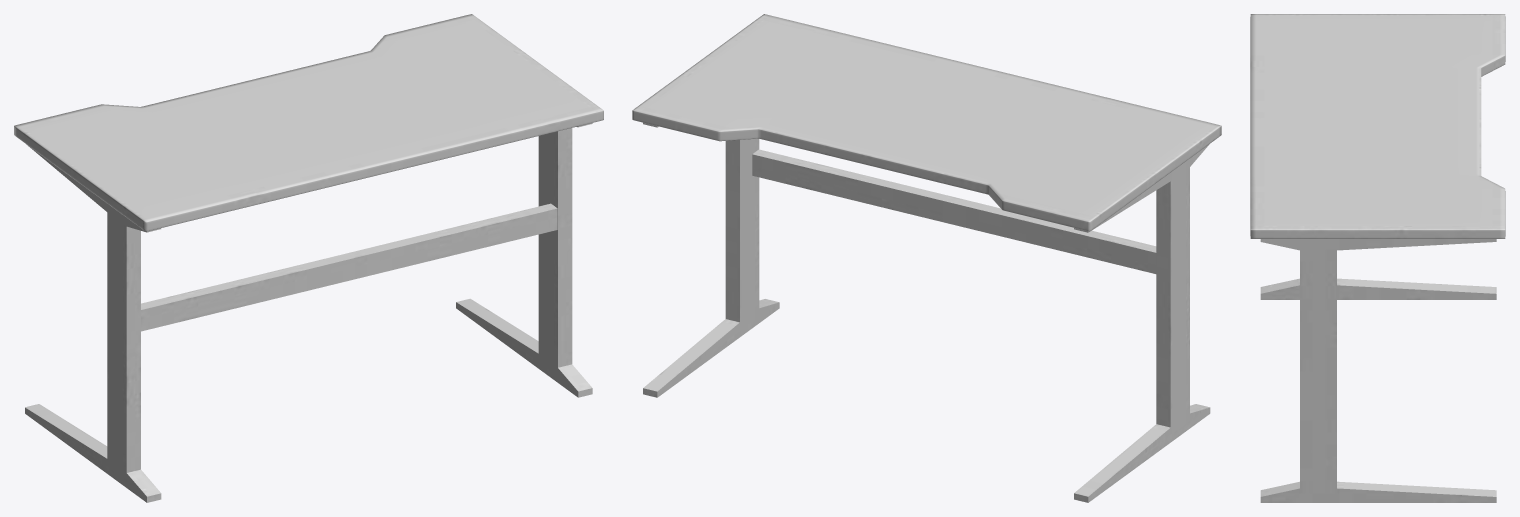
The model's file is Table44.glb.
3 renders of one model, left to right at view 1: azimuth 30°, elevation 25°; view 2: azimuth 150°, elevation 25°; view 3: azimuth 270°, elevation 25°, orthographic. The views are drawn at different scales.
Parts seen in each view (by area): view 1: Table44_model; view 2: Table44_model; view 3: Table44_model.
Boxes of the visible parts, left/top/right/bottom form: Table44_model: left=14, top=14, right=603, bottom=502; Table44_model: left=632, top=14, right=1221, bottom=502; Table44_model: left=1250, top=14, right=1505, bottom=502.
Size of the model in its own units: 2.65 by 1.58 by 1.33.
1 material, 1 textured.
